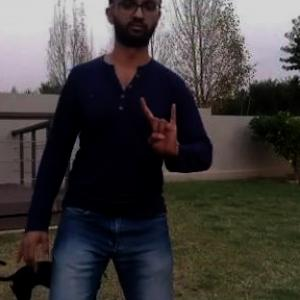takeoff-hand: (136, 89, 184, 162)
